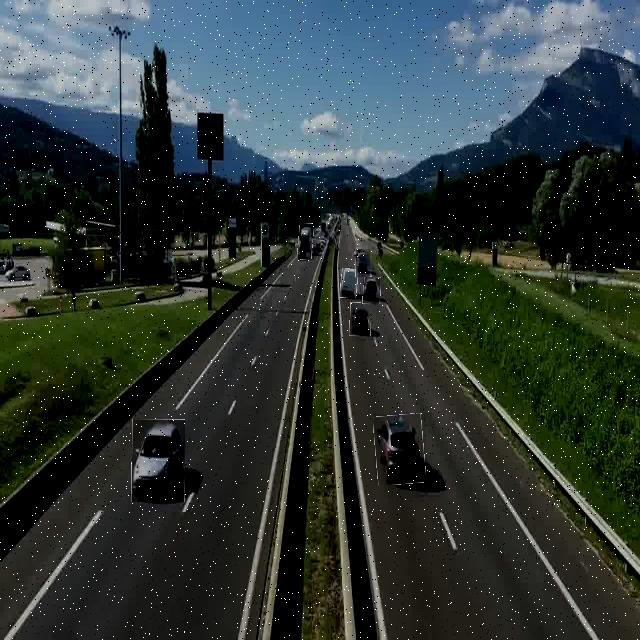Car: (132, 419, 185, 502), (374, 414, 426, 485), (350, 303, 371, 336), (340, 269, 358, 298), (363, 277, 380, 304), (355, 249, 370, 277)
Truck: (298, 223, 314, 260)
